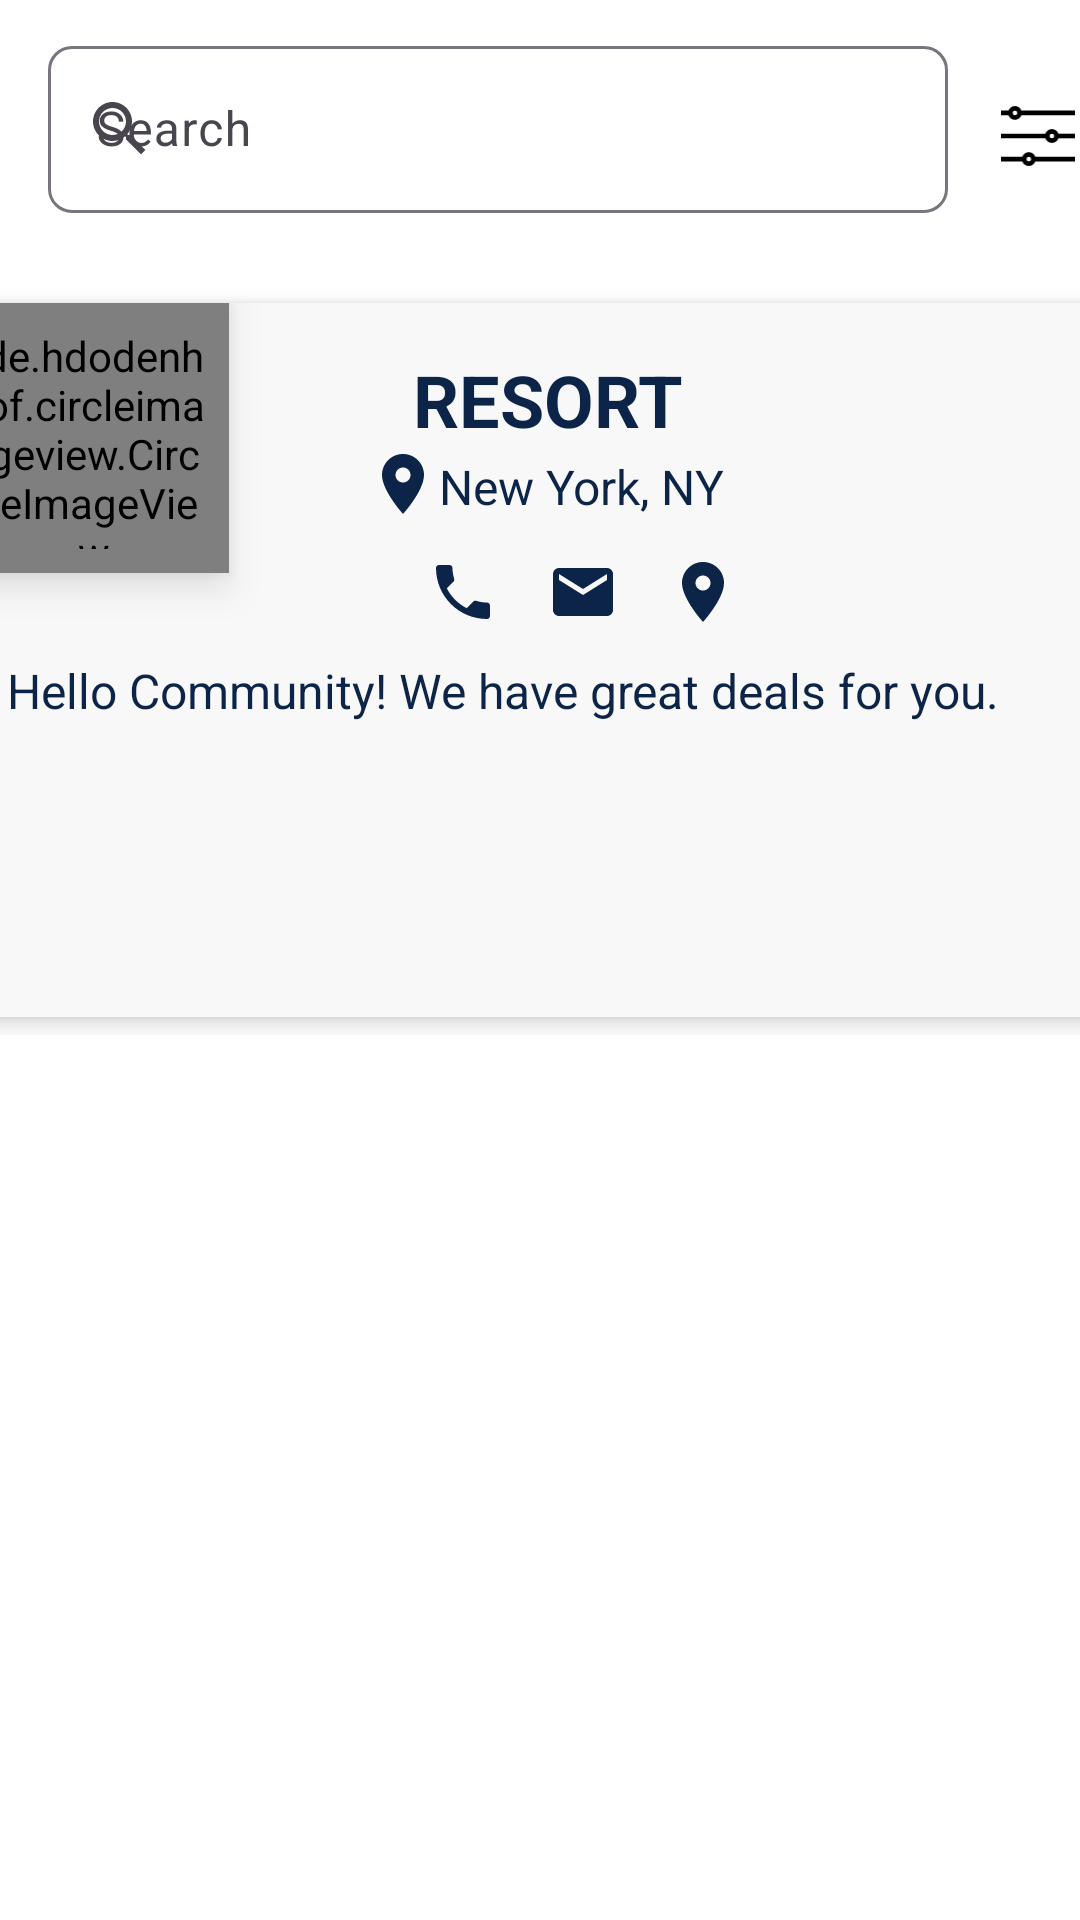

Icon click points for this 1080x1920 phone screenshot, format point (x, y):
cusomize: point (1038, 136)
email: point (583, 592)
location on: point (403, 484), point (703, 592)
phone: point (463, 592)
